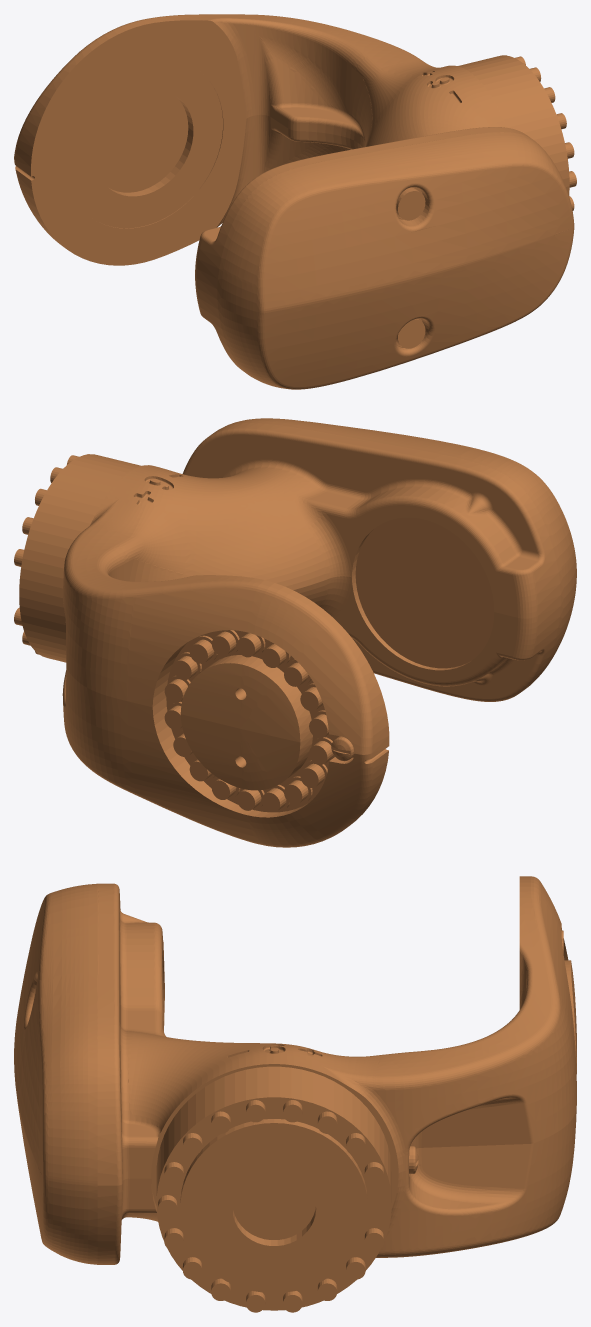
3 views of the same model, one above another, from view 1: azimuth 30°, elevation 25°; view 2: azimuth 150°, elevation 25°; view 3: azimuth 270°, elevation 25° (orthographic). The views are drawn at different scales.
Parts seen in each view (by area): view 1: link5_; view 2: link5_; view 3: link5_.
Boxes of the visible parts, x1,y1,x2,y2 form: link5_: (14,14,576,389); link5_: (14,418,576,847); link5_: (14,876,576,1312).
Bounding box in the file's own units: 0.202 × 0.2008 × 0.115.
